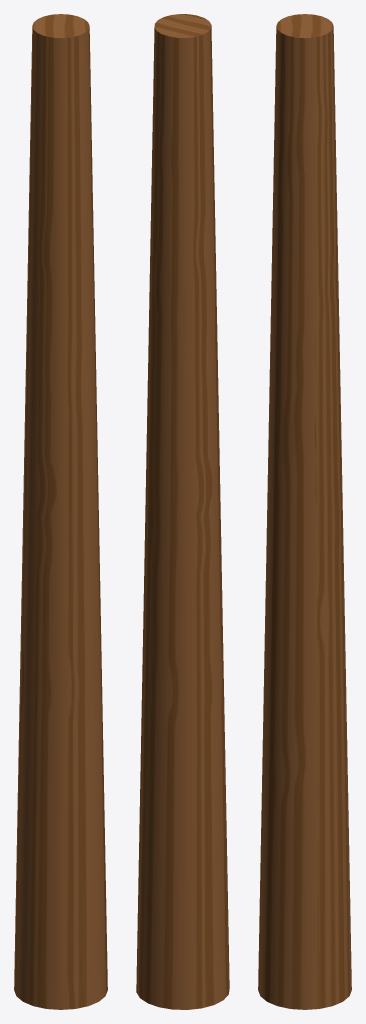
File: windmill_pillar 1.fbx
3 renders of one model, left to right at view 1: azimuth 90°, elevation 25°; view 2: azimuth 150°, elevation 25°; view 3: azimuth 270°, elevation 25°, orthographic.
Visible parts, largest first — view 1: polySurface13; view 2: polySurface13; view 3: polySurface13.
Part boxes in pixels (<box>): polySurface13: <box>14,14,107,1009</box>; polySurface13: <box>136,14,229,1009</box>; polySurface13: <box>258,14,351,1009</box>.
Size of the model in its own units: 342 by 3884 by 342.
1 material, 1 textured.
